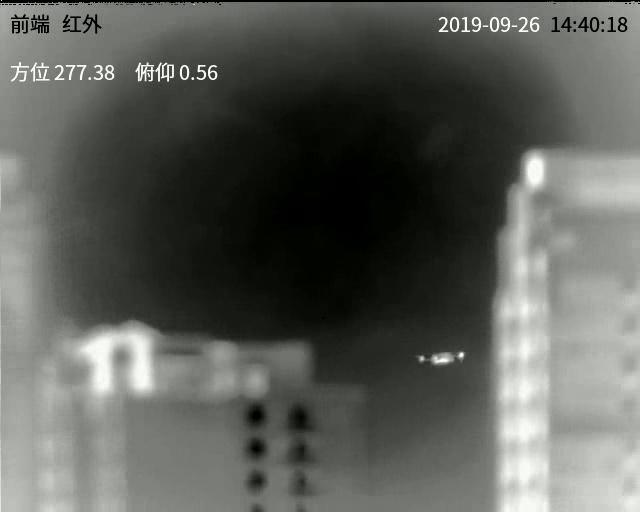DRONE: (416, 350, 466, 365)
